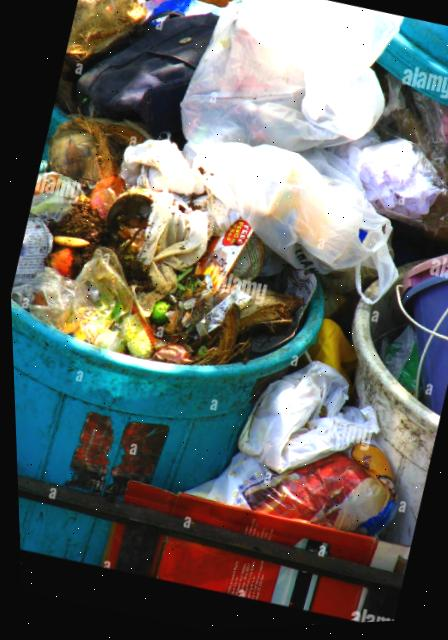Garbage: (8, 0, 448, 359)
Plastic: (75, 15, 218, 136)
Plastic_Bag: (179, 0, 401, 160), (191, 143, 395, 301)
Plastic_wraper: (192, 220, 263, 291), (10, 216, 51, 284)
